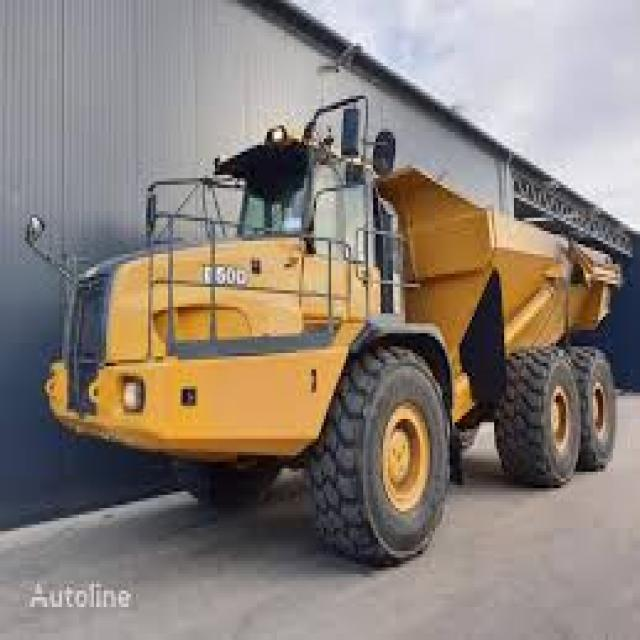dump_truck: (35, 102, 628, 581)
